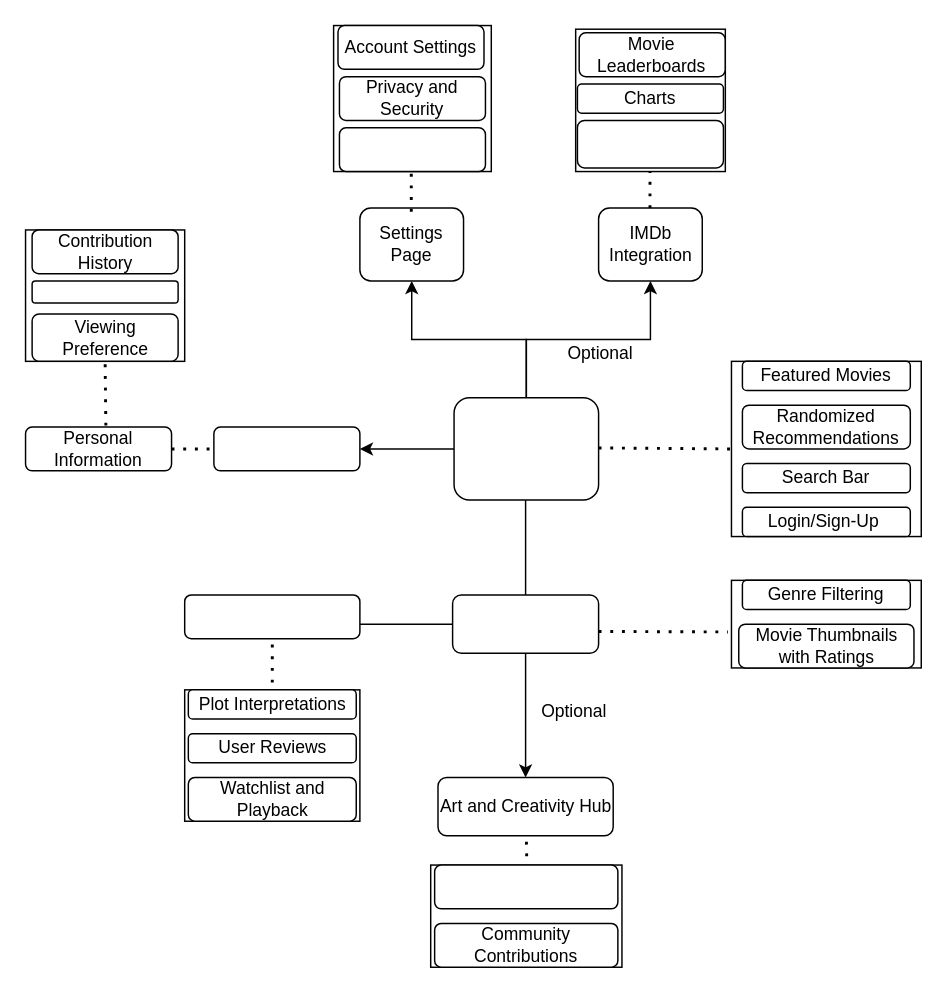
The diagram is 948 pixels wide and 993 high, and some of its shapes have lost their labels. Each missing label, with the centre of its shape:
"AI-Generated or User-Submitted Artwork" belongs at point 525,886.
"Home Page 🏠" belongs at point 526,448.
"Library Page" belongs at point 525,623.
"Movie Details Page" belongs at point 271,616.
"UI Customization" belongs at point 411,149.
"User Profile Page" belongs at point 286,448.
"Viewing Preferences" belongs at point 649,143.
"Watchlist" belongs at point 104,291.
